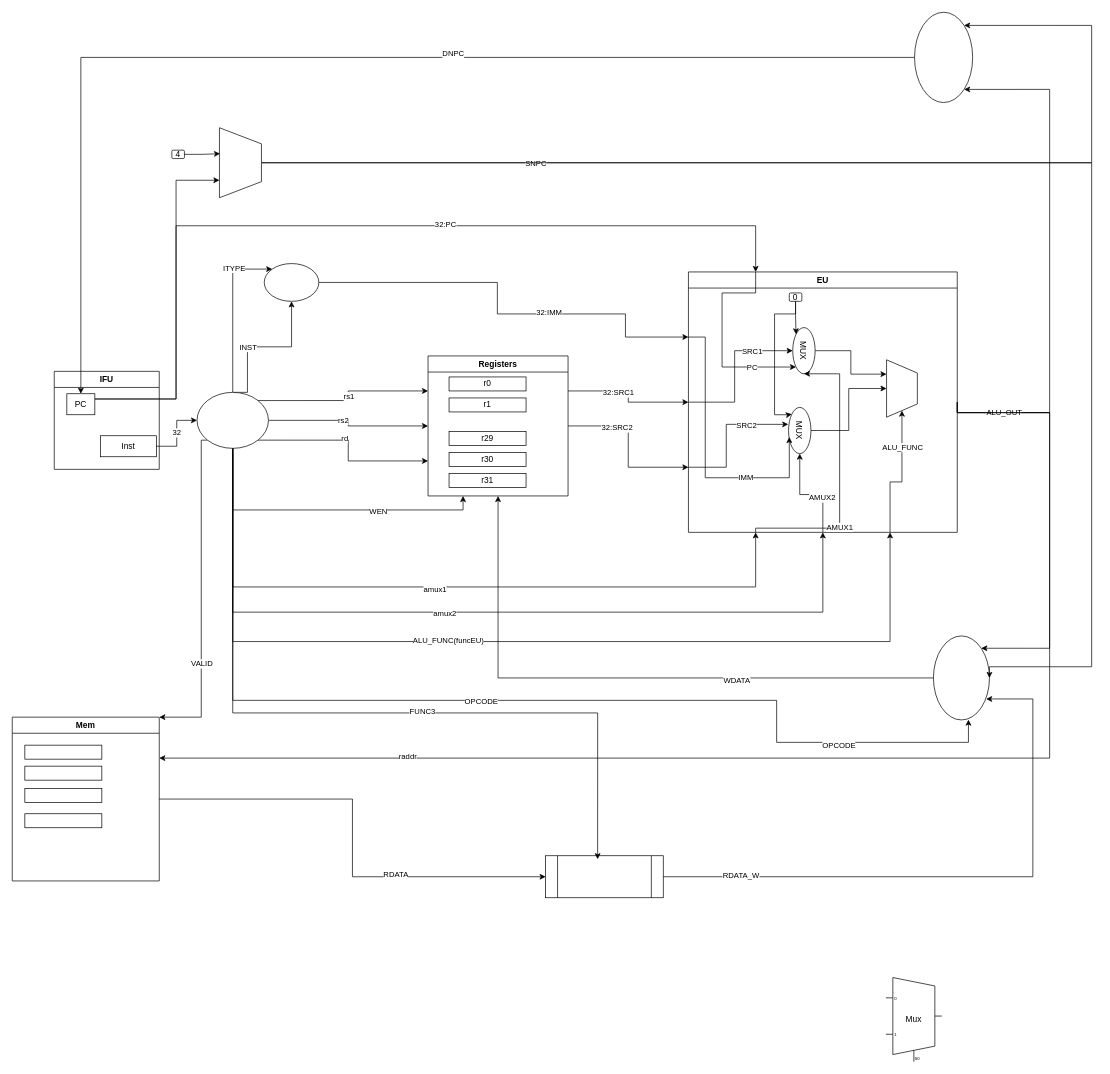
The diagram is 1110 pixels wide and 1074 high, and some of its shapes have lost their labels. The shapes that lost their labels are listed below. From the top down, each one's centre as x and y in pixels, then its label:
At [943,57]: "DNPC_MUX".
At [240,162]: "ADD".
At [291,282]: "ImmGen".
At [901,388]: "ALU".
At [232,420]: "Decode Unit".
At [961,677]: "WDATA_MUX".
At [604,876]: "RDATA_Processoor".
